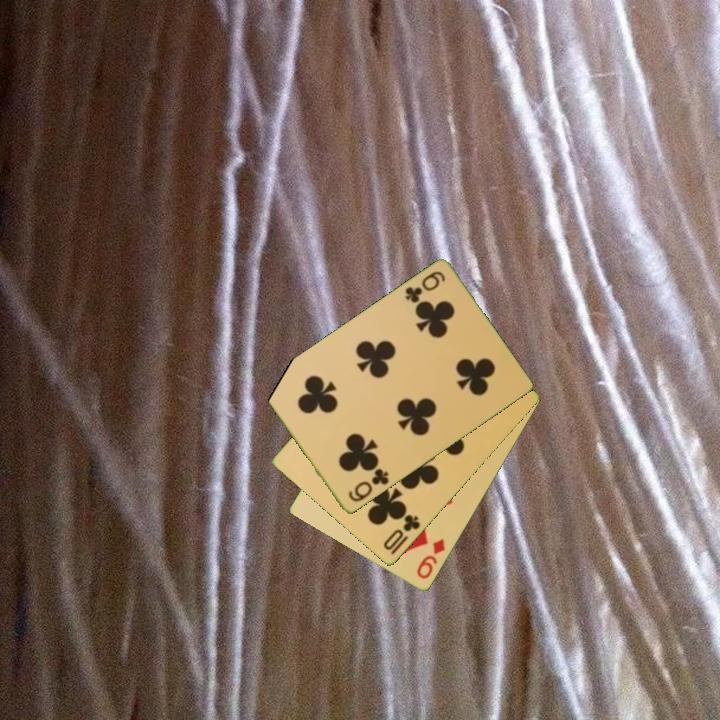10c: (380, 511, 423, 558)
6c: (344, 465, 392, 505), (401, 268, 448, 307)
9d: (413, 535, 448, 582)
